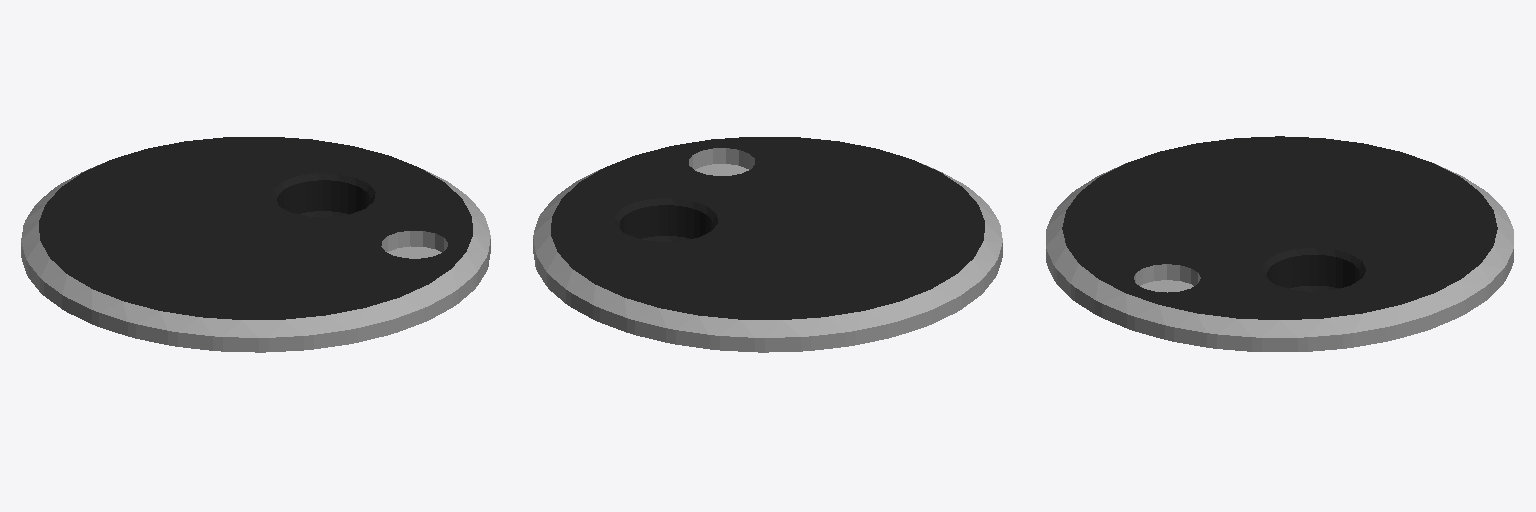
Rendered from editor_controller_base_right.sgm.obj.
The picture shows the model from 3 angles: view 1: azimuth 30°, elevation 25°; view 2: azimuth 150°, elevation 25°; view 3: azimuth 270°, elevation 25°; orthographic projection.
Visible parts, largest first — view 1: 1, 0; view 2: 1, 0; view 3: 1, 0.
Part boxes in pixels (bbox=[...]): 1: bbox=[39, 137, 472, 319]; 0: bbox=[21, 163, 490, 352]; 1: bbox=[551, 137, 984, 319]; 0: bbox=[533, 148, 1002, 352]; 1: bbox=[1062, 136, 1497, 319]; 0: bbox=[1046, 163, 1513, 351].
Size of the model in its own units: 0.0695 by 0.0091 by 0.0695.